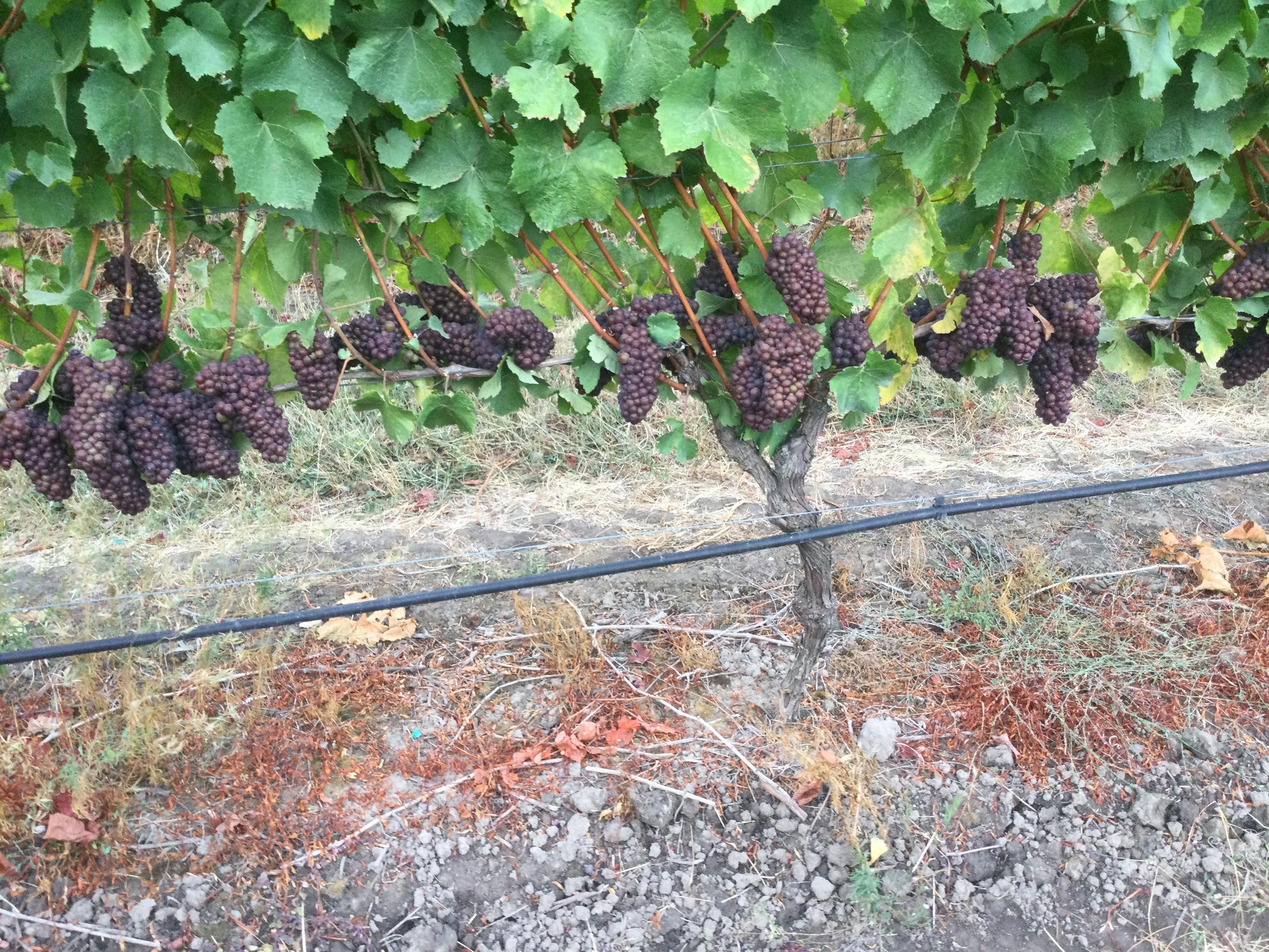leaf: (656, 64, 786, 190), (726, 0, 844, 128), (846, 4, 963, 130), (241, 9, 355, 130), (80, 54, 196, 172), (347, 0, 461, 120), (570, 0, 692, 111), (216, 91, 329, 208), (510, 120, 624, 230), (975, 100, 1092, 205), (887, 83, 995, 189), (1063, 63, 1162, 162), (3, 21, 72, 143), (1142, 79, 1237, 164), (406, 114, 503, 187), (1110, 4, 1180, 98), (869, 182, 936, 280), (162, 2, 238, 79), (1088, 192, 1190, 245), (506, 61, 584, 130), (806, 153, 879, 219), (89, 0, 152, 73), (829, 350, 901, 413), (1097, 247, 1149, 320), (814, 227, 879, 283), (1033, 215, 1095, 273), (467, 8, 520, 75), (1191, 48, 1247, 111), (619, 114, 676, 175), (514, 5, 572, 62), (353, 390, 415, 443), (868, 294, 917, 361), (1098, 324, 1154, 382), (263, 214, 310, 283), (1194, 296, 1237, 366), (1193, 0, 1244, 56), (477, 359, 526, 415), (415, 390, 476, 433), (1041, 32, 1089, 86), (966, 11, 1016, 62), (657, 208, 704, 257), (276, 0, 332, 40), (1191, 175, 1234, 224), (738, 271, 787, 314), (926, 0, 994, 30), (26, 141, 72, 185), (781, 178, 823, 226), (656, 418, 697, 463), (374, 128, 415, 168), (429, 0, 485, 25), (647, 312, 679, 347), (736, 0, 779, 21), (999, 0, 1045, 14), (1072, 225, 1077, 226), (323, 135, 324, 138), (526, 113, 528, 114), (974, 0, 976, 1), (720, 10, 720, 11), (509, 51, 509, 54)
